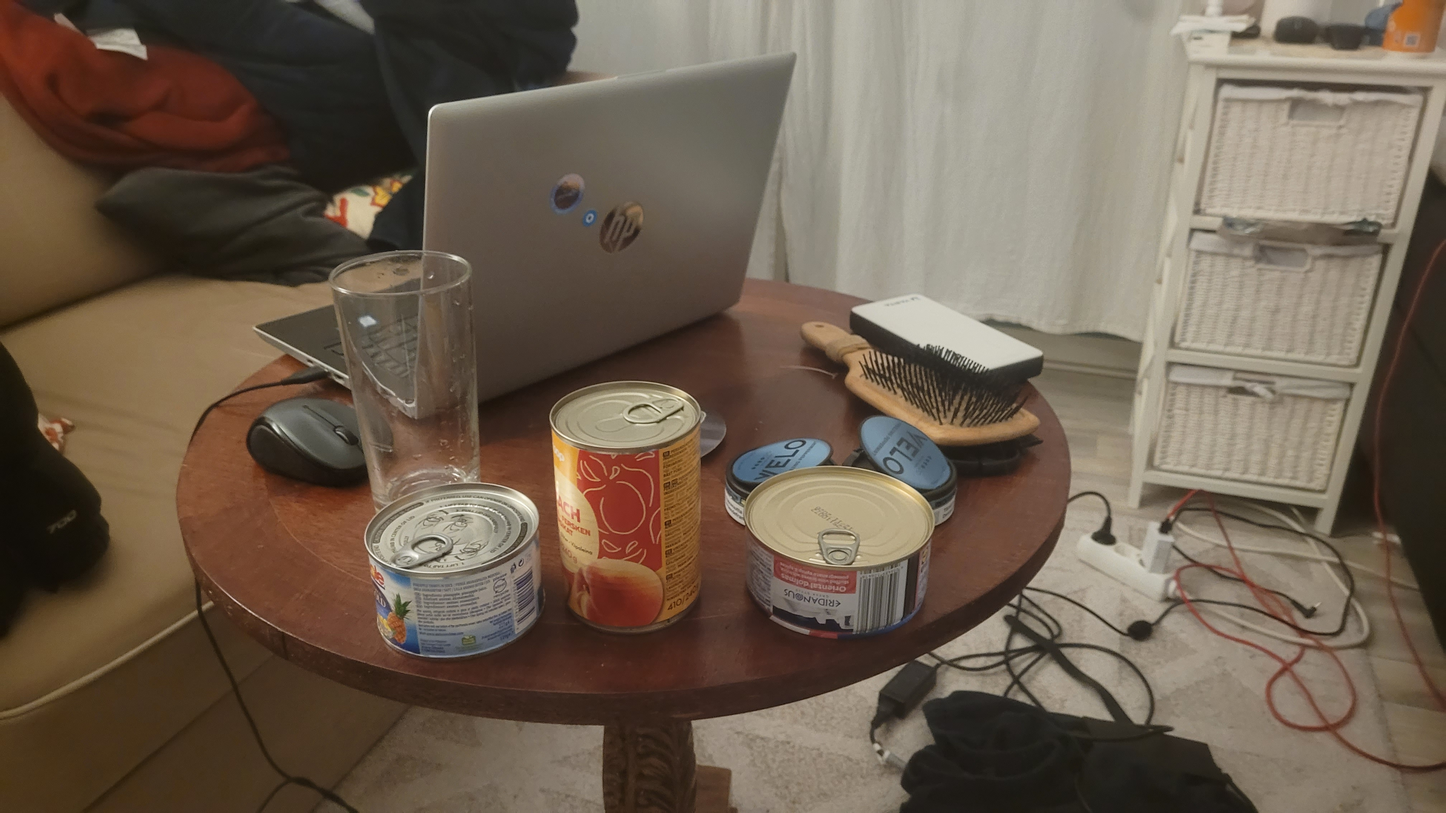Konservburk: (550, 380, 705, 633), (743, 464, 936, 642), (363, 481, 546, 659)
